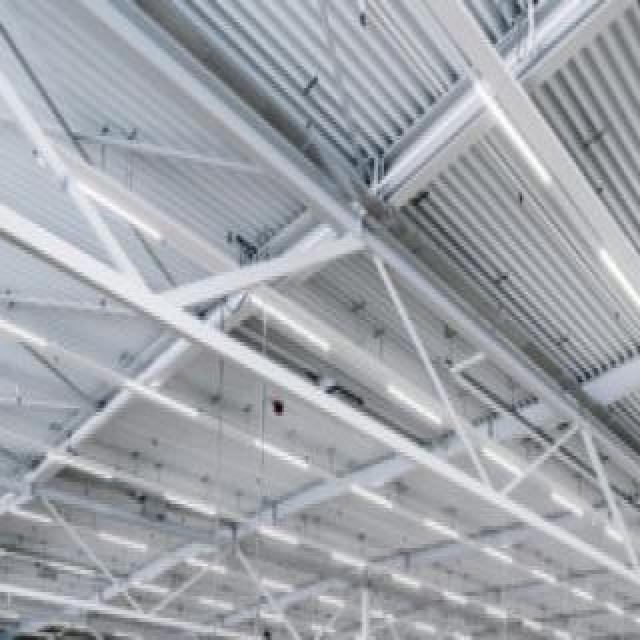fluorescent tube: (55, 183, 180, 261), (240, 278, 338, 369), (107, 376, 209, 433), (7, 451, 129, 493), (242, 431, 338, 484), (0, 273, 58, 356), (324, 473, 420, 515), (151, 479, 220, 537), (385, 378, 451, 438), (409, 507, 471, 557), (178, 538, 246, 582), (516, 556, 569, 609), (89, 525, 160, 563), (471, 536, 529, 582), (247, 517, 315, 555), (547, 482, 597, 531), (478, 440, 527, 485), (309, 578, 349, 631), (4, 496, 58, 531), (249, 562, 296, 602), (383, 565, 433, 602), (396, 612, 450, 640), (355, 596, 397, 624), (520, 611, 555, 638), (626, 544, 640, 574)
